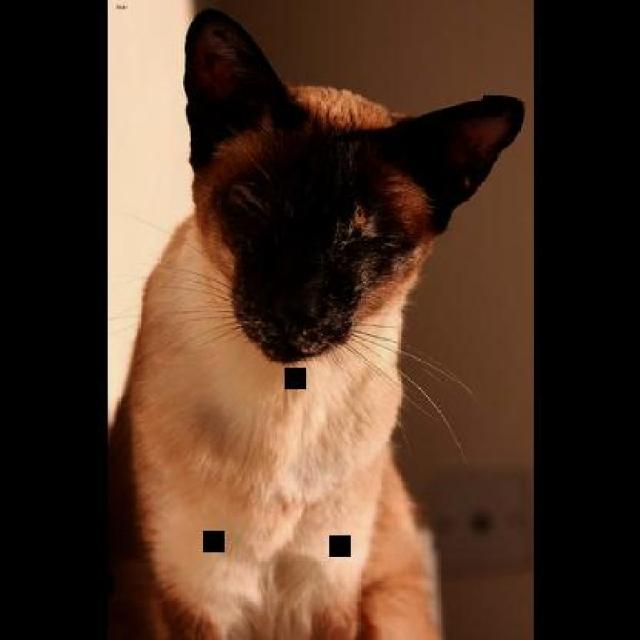unauthorized: (106, 6, 525, 639)
